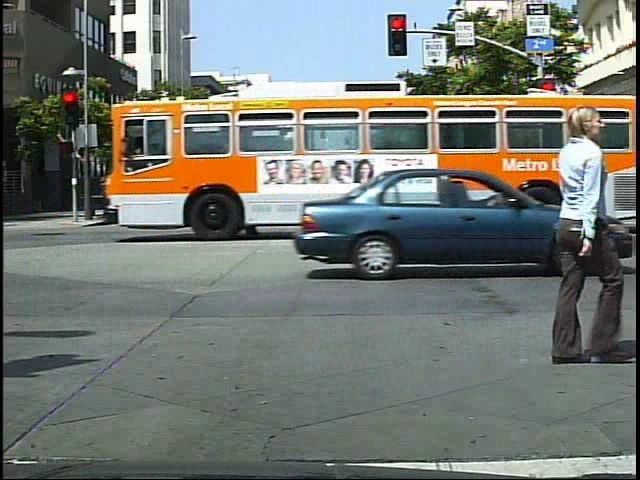person: (522, 92, 618, 395), (303, 165, 334, 229), (208, 167, 237, 233), (322, 166, 351, 230), (549, 160, 571, 211)
